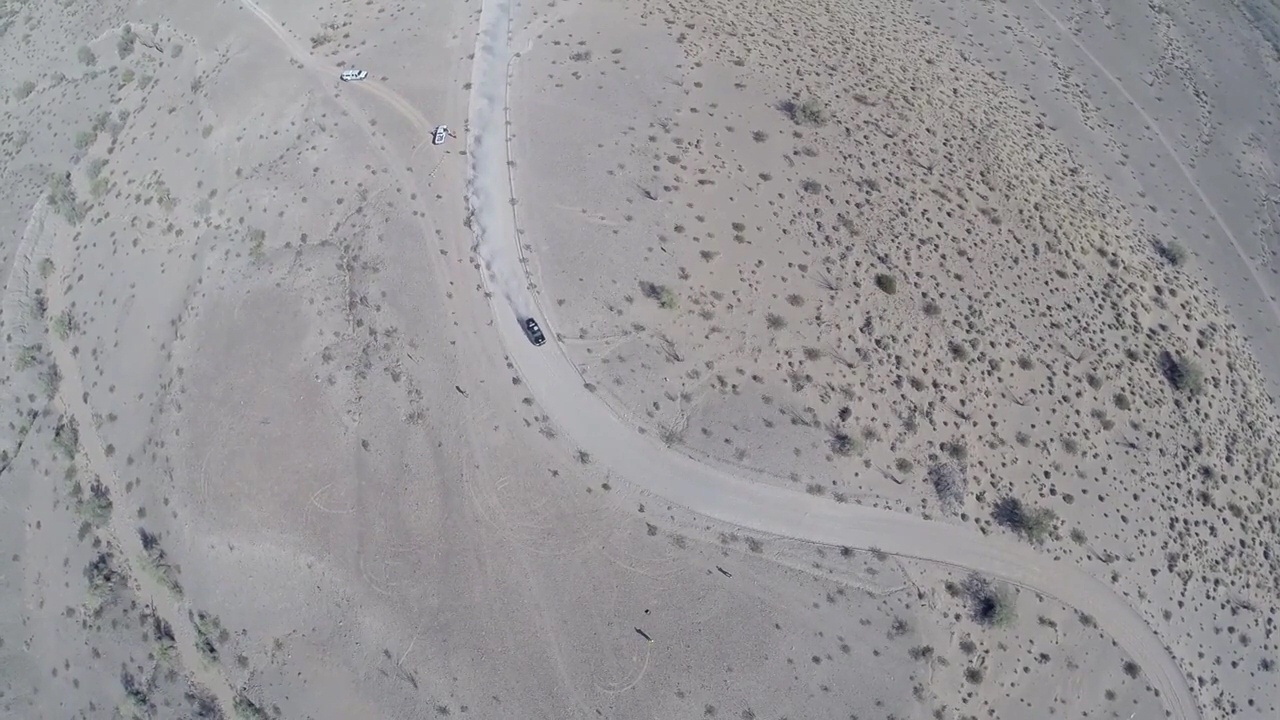araba: (521, 318, 545, 346), (341, 70, 367, 81)
kamyonet: (433, 122, 449, 147)
